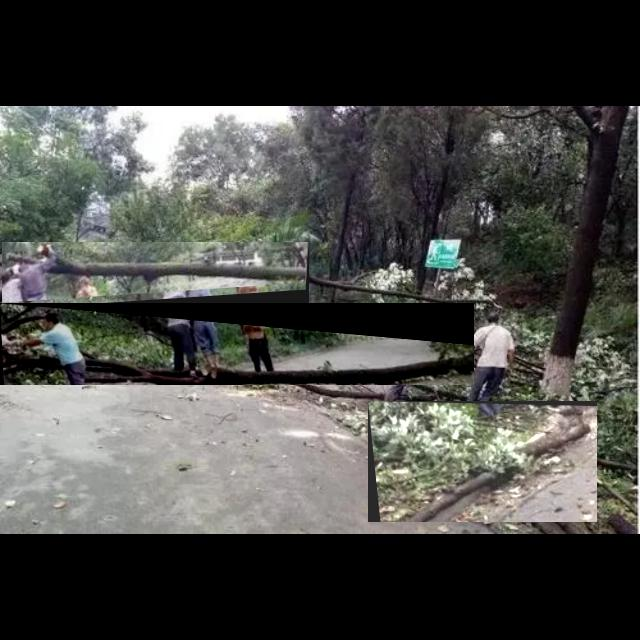Fallen Tree: (0, 303, 475, 386), (368, 401, 598, 523), (2, 242, 310, 310)
